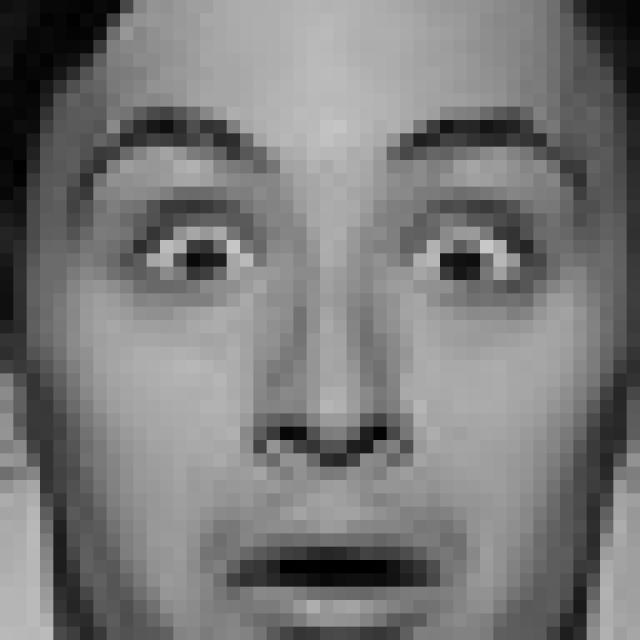surprise: (80, 98, 598, 640)
